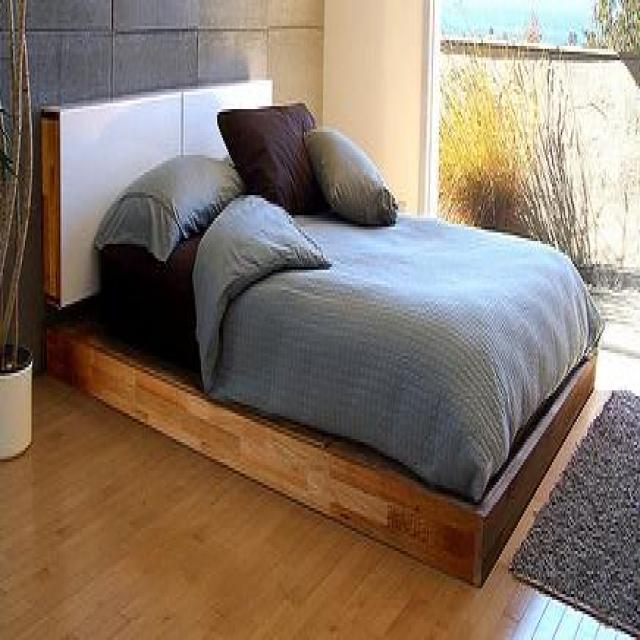bed: (38, 76, 602, 592)
